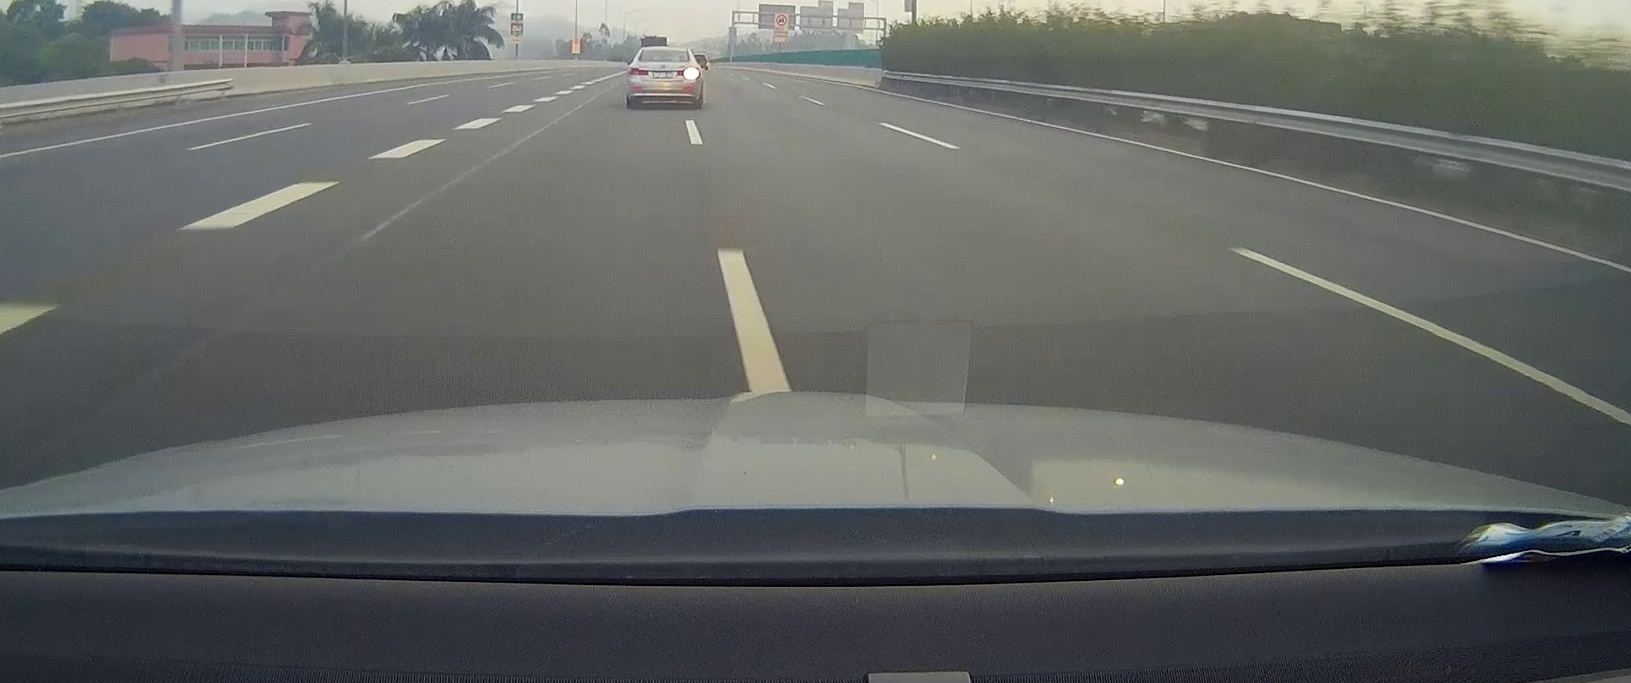L_light: (629, 67, 649, 76)
R_light: (677, 68, 700, 77)
T_light: (659, 50, 670, 53)
day-right: (626, 46, 702, 110)
